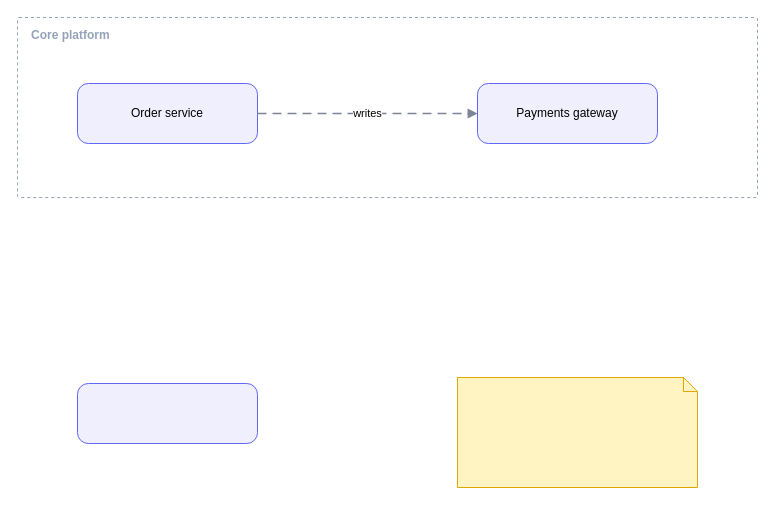
The diagram is 775 pixels wide and 505 high, and some of its shapes have lost their labels. Each missing label, with the box of its shape:
Sticky reminder Second line here: (456, 376, 698, 488)
Worker: (76, 382, 258, 444)
